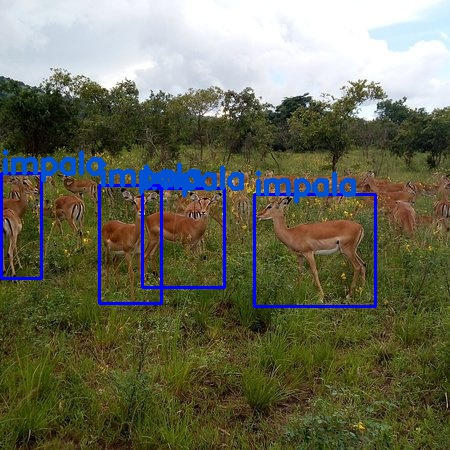impala: (254, 194, 375, 306), (142, 188, 224, 287), (99, 184, 161, 302), (1, 173, 41, 277)
